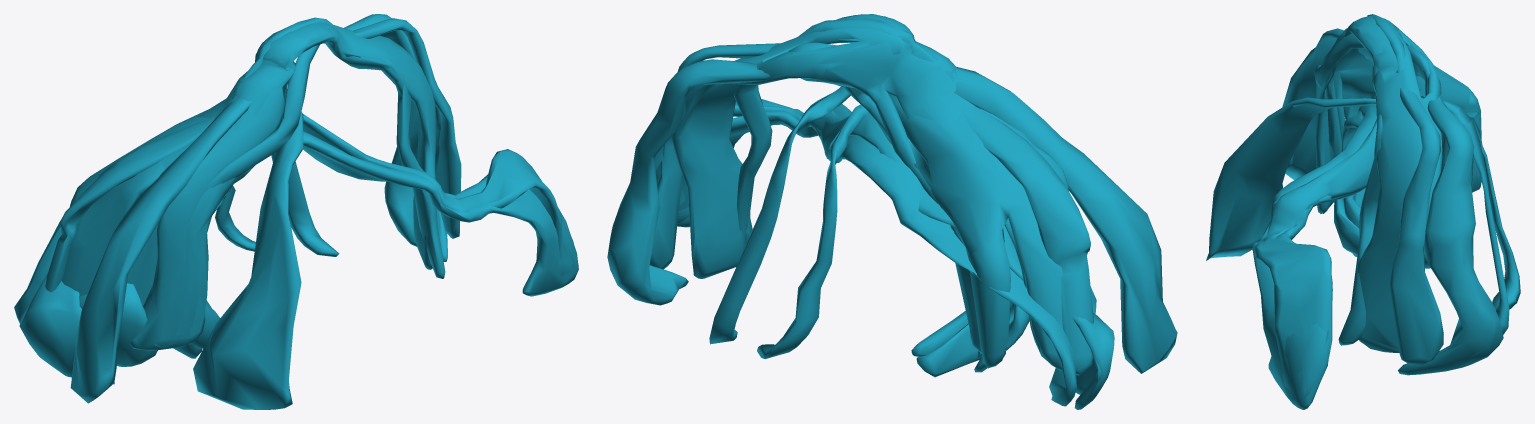
File: dry_trunks.FBX
3 views of the same model, side by side, from view 1: azimuth 30°, elevation 25°; view 2: azimuth 150°, elevation 25°; view 3: azimuth 270°, elevation 25° (orthographic). The views are drawn at different scales.
Parts seen in each view (by area): view 1: trunksDry_01, trunksDry_03, trunksDry_02; view 2: trunksDry_01, trunksDry_03, trunksDry_02; view 3: trunksDry_01, trunksDry_02, trunksDry_03.
Part boxes in pixels (left/top/right/bottom): trunksDry_01: left=45, top=14, right=461, bottom=350; trunksDry_03: left=70, top=83, right=339, bottom=409; trunksDry_02: left=14, top=114, right=578, bottom=384; trunksDry_01: left=607, top=14, right=1093, bottom=375; trunksDry_03: left=709, top=67, right=1177, bottom=373; trunksDry_02: left=656, top=98, right=1114, bottom=409; trunksDry_01: left=1314, top=14, right=1503, bottom=375; trunksDry_02: left=1252, top=91, right=1480, bottom=409; trunksDry_03: left=1206, top=28, right=1520, bottom=334.
Bounding box in the file's own units: 55.93 × 33.03 × 31.56.
